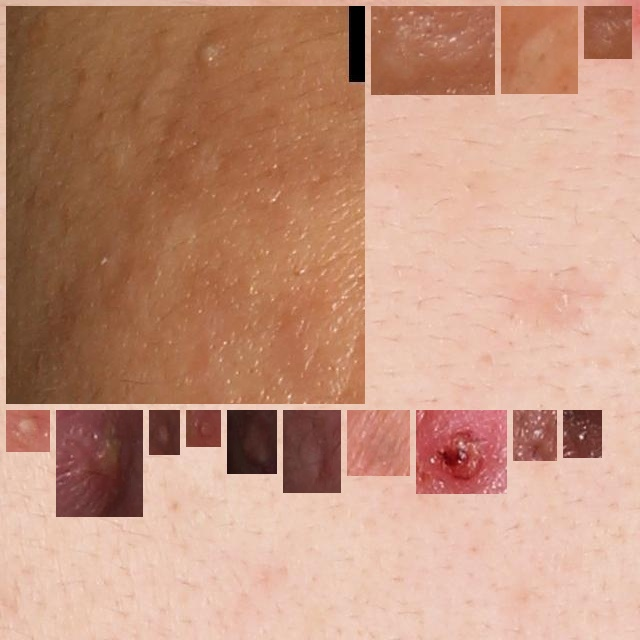hypertrophic_scar: (379, 14, 487, 87), (509, 14, 570, 86), (592, 14, 624, 51)
melasma: (14, 14, 357, 396), (355, 418, 402, 468)
pustule: (64, 418, 135, 509), (424, 418, 499, 486), (291, 418, 333, 485), (235, 418, 269, 466), (521, 418, 549, 453), (571, 418, 594, 450), (14, 418, 42, 444), (157, 418, 172, 447), (194, 418, 213, 439)
